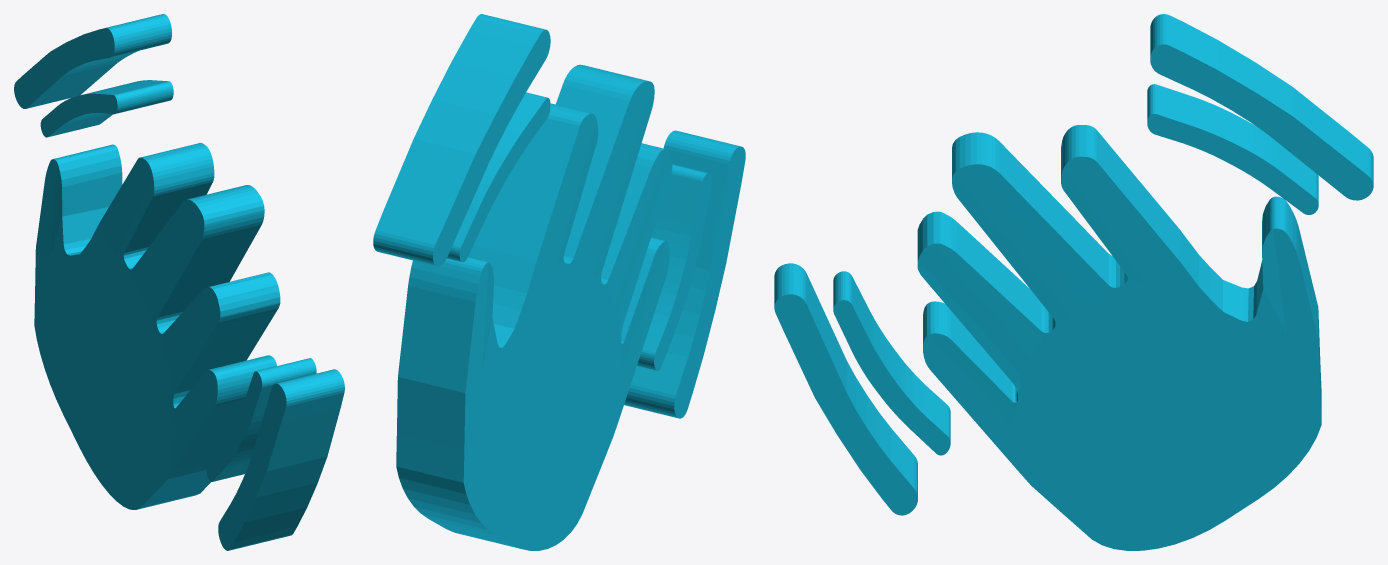
File: contact_3dicon.gltf
3 renders of one model, left to right at view 1: azimuth 30°, elevation 25°; view 2: azimuth 150°, elevation 25°; view 3: azimuth 270°, elevation 25°, orthographic. The views are drawn at different scales.
Parts seen in each view (by area): view 1: Cube.001; view 2: Cube.001; view 3: Cube.001.
Boxes of the visible parts, bbox=[...] form: Cube.001: bbox=[14, 14, 344, 550]; Cube.001: bbox=[373, 14, 745, 550]; Cube.001: bbox=[774, 14, 1373, 550].
Bounding box in the file's own units: 0.6274 × 4.42 × 4.75.
